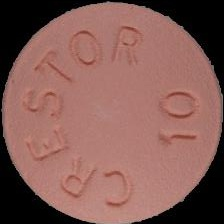55289-935: (0, 0, 224, 224)
